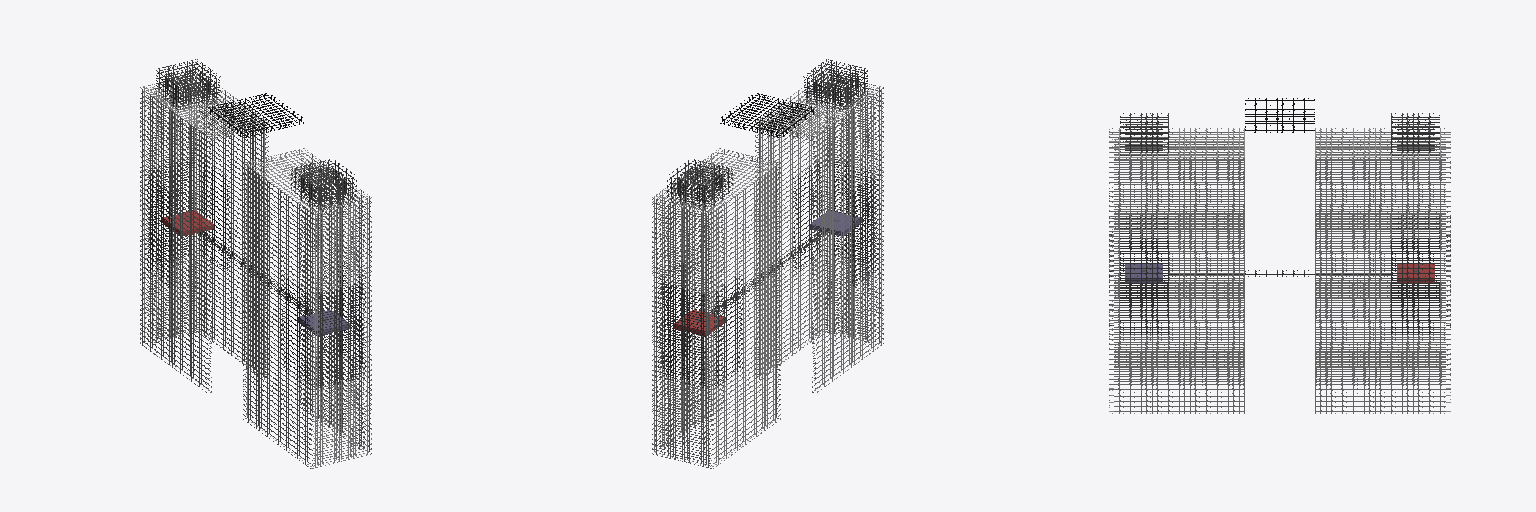
3 views of the same model, side by side, from view 1: azimuth 30°, elevation 25°; view 2: azimuth 150°, elevation 25°; view 3: azimuth 270°, elevation 25° (orthographic).
Size of the model in its own units: 13 by 58 by 63.
Materials: 6 (6 with a texture image).